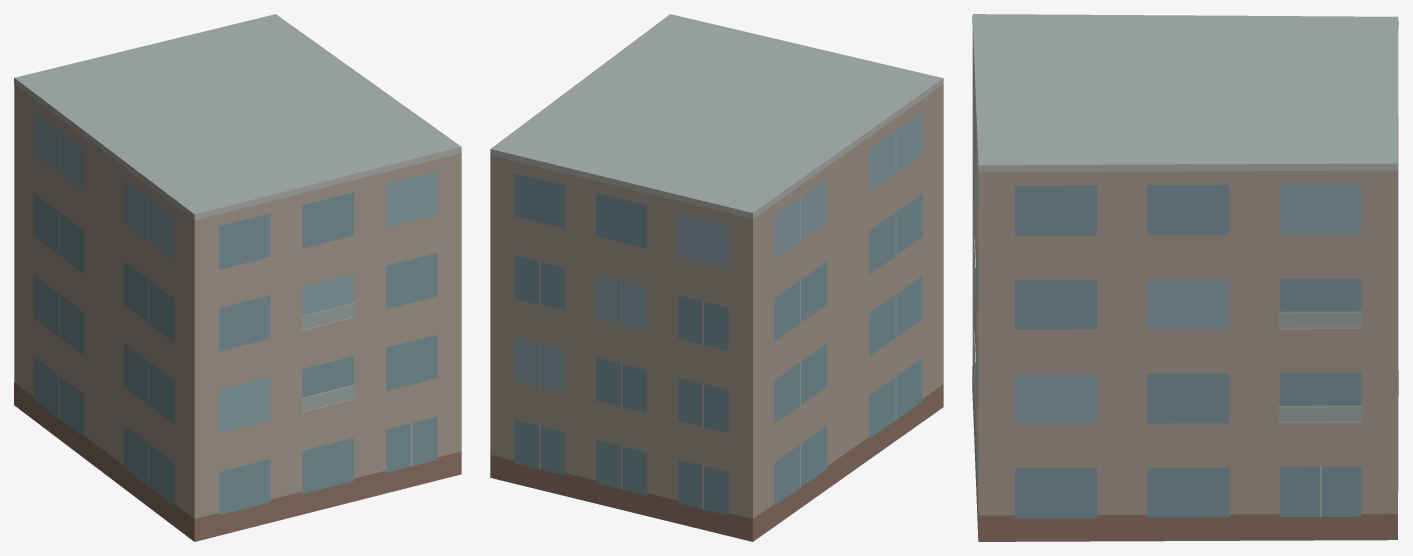
File: survey-upis-33018381.glb
3 views of the same model, side by side, from view 1: azimuth 30°, elevation 25°; view 2: azimuth 150°, elevation 25°; view 3: azimuth 270°, elevation 25° (orthographic). The views are drawn at different scales.
Parts seen in each view (by area): view 1: survey-upis-33018381.tmp; view 2: survey-upis-33018381.tmp; view 3: survey-upis-33018381.tmp.
Boxes of the visible parts, x1,y1,x2,y2 form: survey-upis-33018381.tmp: (14,14,461,541); survey-upis-33018381.tmp: (490,14,943,541); survey-upis-33018381.tmp: (972,14,1398,541).
Bounding box in the file's own units: 11.21 × 13 × 13.34.
